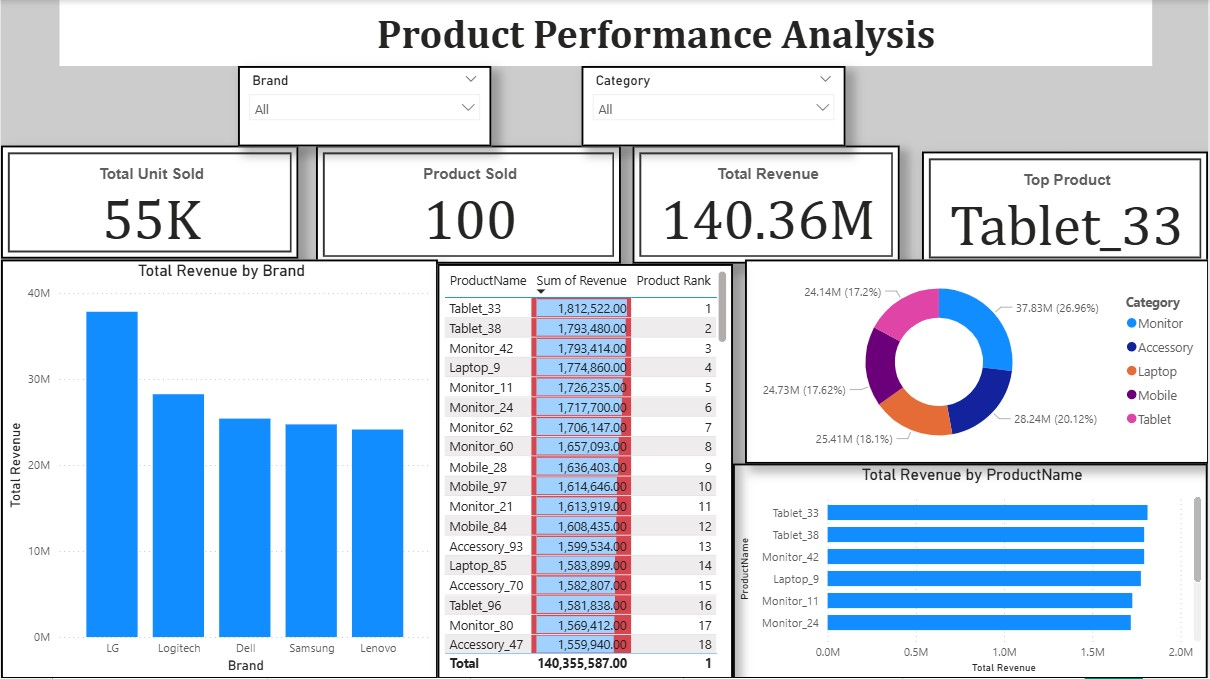

The dashboard page shown, as its layout file describes it:
{"tool":"powerbi","page":{"name":"Product Analytics","canvas":[1280,720],"ordinal":1},"visuals":[{"type":"cardVisual","fields":{"Data":["Fact_Sales.Total Revenue"]},"box":[670,155,283.3,125],"z":0},{"type":"cardVisual","fields":{"Data":["Fact_Sales.Product Sold"]},"box":[333.3,155,323.3,125],"z":1000},{"type":"cardVisual","fields":{"Data":["Fact_Sales.Total Unit Sold"]},"box":[0,155,315,120],"z":2000},{"type":"cardVisual","fields":{"Data":["Fact_Sales.Top Product"]},"box":[976.7,160,303.3,120],"z":3000},{"type":"columnChart","fields":{"Category":["Dim_Products.Brand"],"Y":["Fact_Sales.Total Revenue"]},"box":[0,275,463.3,445],"z":4000},{"type":"textbox","box":[62.4,0,1158.4,69.9],"z":5000},{"type":"clusteredBarChart","fields":{"Category":["Dim_Products.ProductName"],"Y":["Fact_Sales.Total Revenue"]},"box":[776.7,491.7,503.3,228.3],"z":6000},{"type":"donutChart","fields":{"Category":["Dim_Products.Category"],"Y":["Fact_Sales.Total Revenue"]},"box":[788.3,275,491.7,216.7],"z":7000},{"type":"tableEx","fields":{"Values":["Dim_Products.ProductName","Sum(Fact_Sales.Revenue)","Fact_Sales.Product Rank"]},"box":[463.3,280,313.3,440],"z":8000},{"type":"slicer","fields":{"Values":["Dim_Products.Brand"]},"box":[251.7,70,268.3,85],"z":9000},{"type":"slicer","fields":{"Values":["Dim_Products.Category"]},"box":[615,70,280,85],"z":10000}]}

Visuals, with their boxes in screenshot pixels (x1, y1, x2, y2), scaled from the page's 1280x720 canvas onto the 1210x679 screenshot:
cardVisual - Fact_Sales.Total Revenue: Rect(633, 146, 901, 264)
cardVisual - Fact_Sales.Product Sold: Rect(315, 146, 621, 264)
cardVisual - Fact_Sales.Total Unit Sold: Rect(0, 146, 298, 259)
cardVisual - Fact_Sales.Top Product: Rect(923, 151, 1209, 264)
columnChart - Dim_Products.Brand x Fact_Sales.Total Revenue: Rect(0, 259, 438, 678)
textbox: Rect(59, 0, 1154, 66)
clusteredBarChart - Dim_Products.ProductName x Fact_Sales.Total Revenue: Rect(734, 464, 1209, 678)
donutChart - Dim_Products.Category x Fact_Sales.Total Revenue: Rect(745, 259, 1209, 464)
tableEx - Dim_Products.ProductName x Sum(Fact_Sales.Revenue): Rect(438, 264, 734, 678)
slicer - Dim_Products.Brand: Rect(238, 66, 492, 146)
slicer - Dim_Products.Category: Rect(581, 66, 846, 146)
